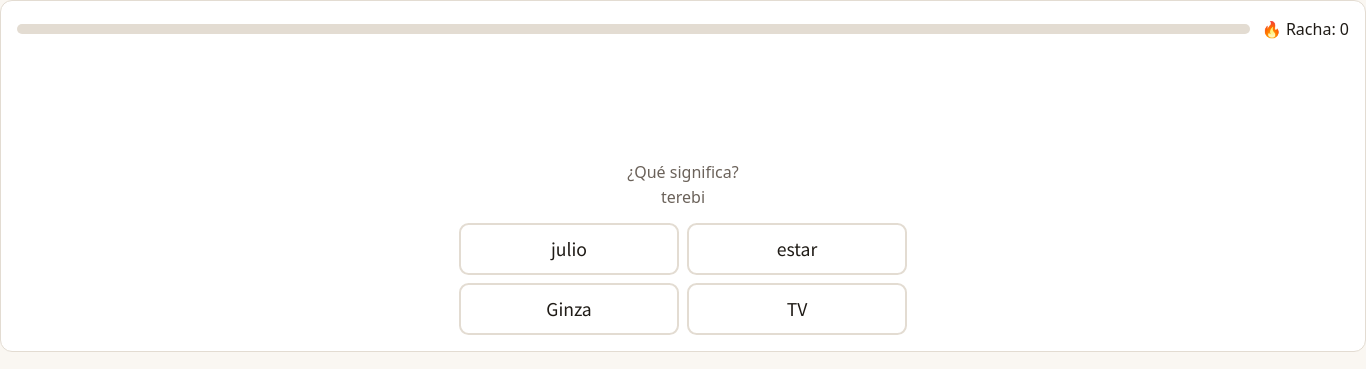
read-words feedback follows the unlock rules (QA-008) › does not print raw katakana for a word the learner cannot read yet
The image size is (1366, 369).
Click the button "TV": (797, 309) [687, 283, 907, 335]
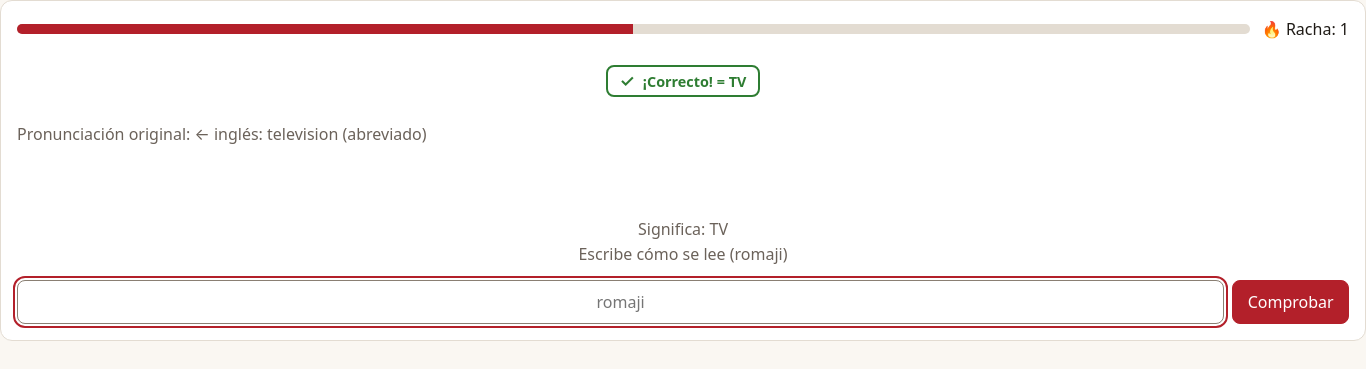
Check: the message shows "= TV", box [606, 65, 760, 96]
